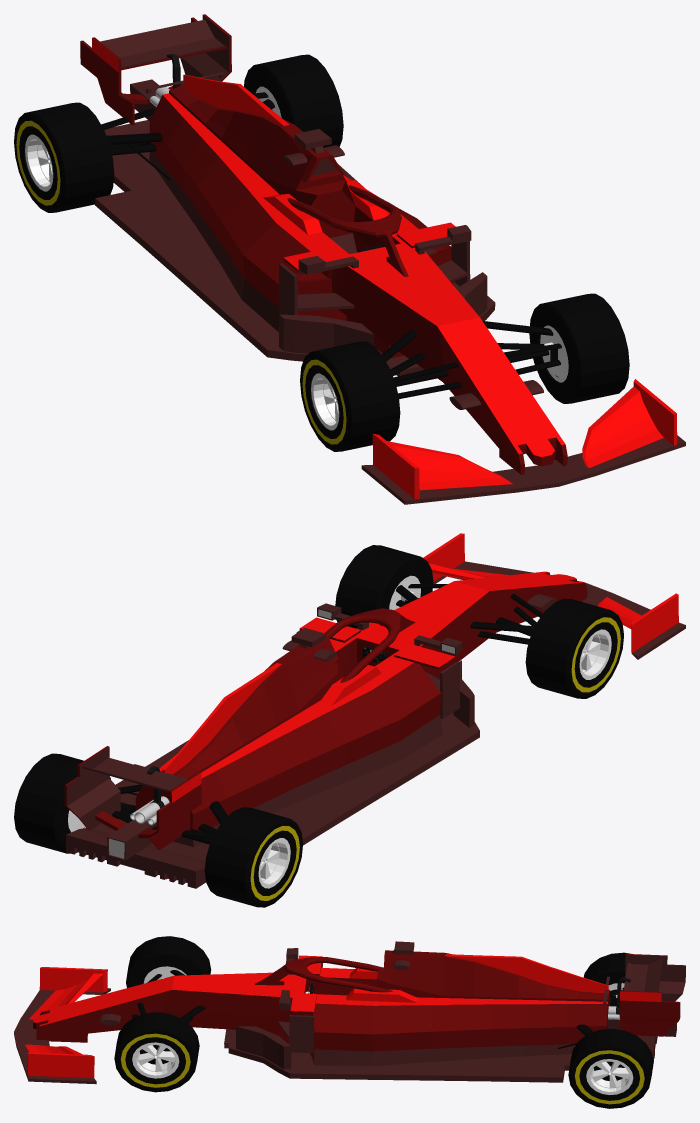
File: F1-oposite_car03.obj
3 renders of one model, top to bottom at view 1: azimuth 30°, elevation 25°; view 2: azimuth 150°, elevation 25°; view 3: azimuth 270°, elevation 25°, orthographic. The views are drawn at different scales.
Parts seen in each view (by area): view 1: Cube.002, Cube.005_Cube.018, Cube.007_Cube.020, Cube; view 2: Cube.002, Cube.005_Cube.018, Cube.007_Cube.020, Cube; view 3: Cube.002, Cube.005_Cube.018, Cube.007_Cube.020, Cube.
Part boxes in pixels (box(x1,y1,x2,y2)): Cube.002: box(80, 14, 685, 504); Cube.005_Cube.018: box(300, 293, 629, 451); Cube.007_Cube.020: box(14, 54, 343, 212); Cube: box(279, 241, 470, 314); Cube.002: box(64, 533, 685, 888); Cube.005_Cube.018: box(335, 545, 623, 698); Cube.007_Cube.020: box(14, 753, 302, 907); Cube: box(296, 630, 460, 719); Cube.002: box(14, 941, 685, 1084); Cube.005_Cube.018: box(114, 936, 211, 1092); Cube.007_Cube.020: box(558, 952, 653, 1108); Cube: box(278, 958, 322, 1053).
Size of the model in its own units: 2.1 by 0.9883 by 5.41.
